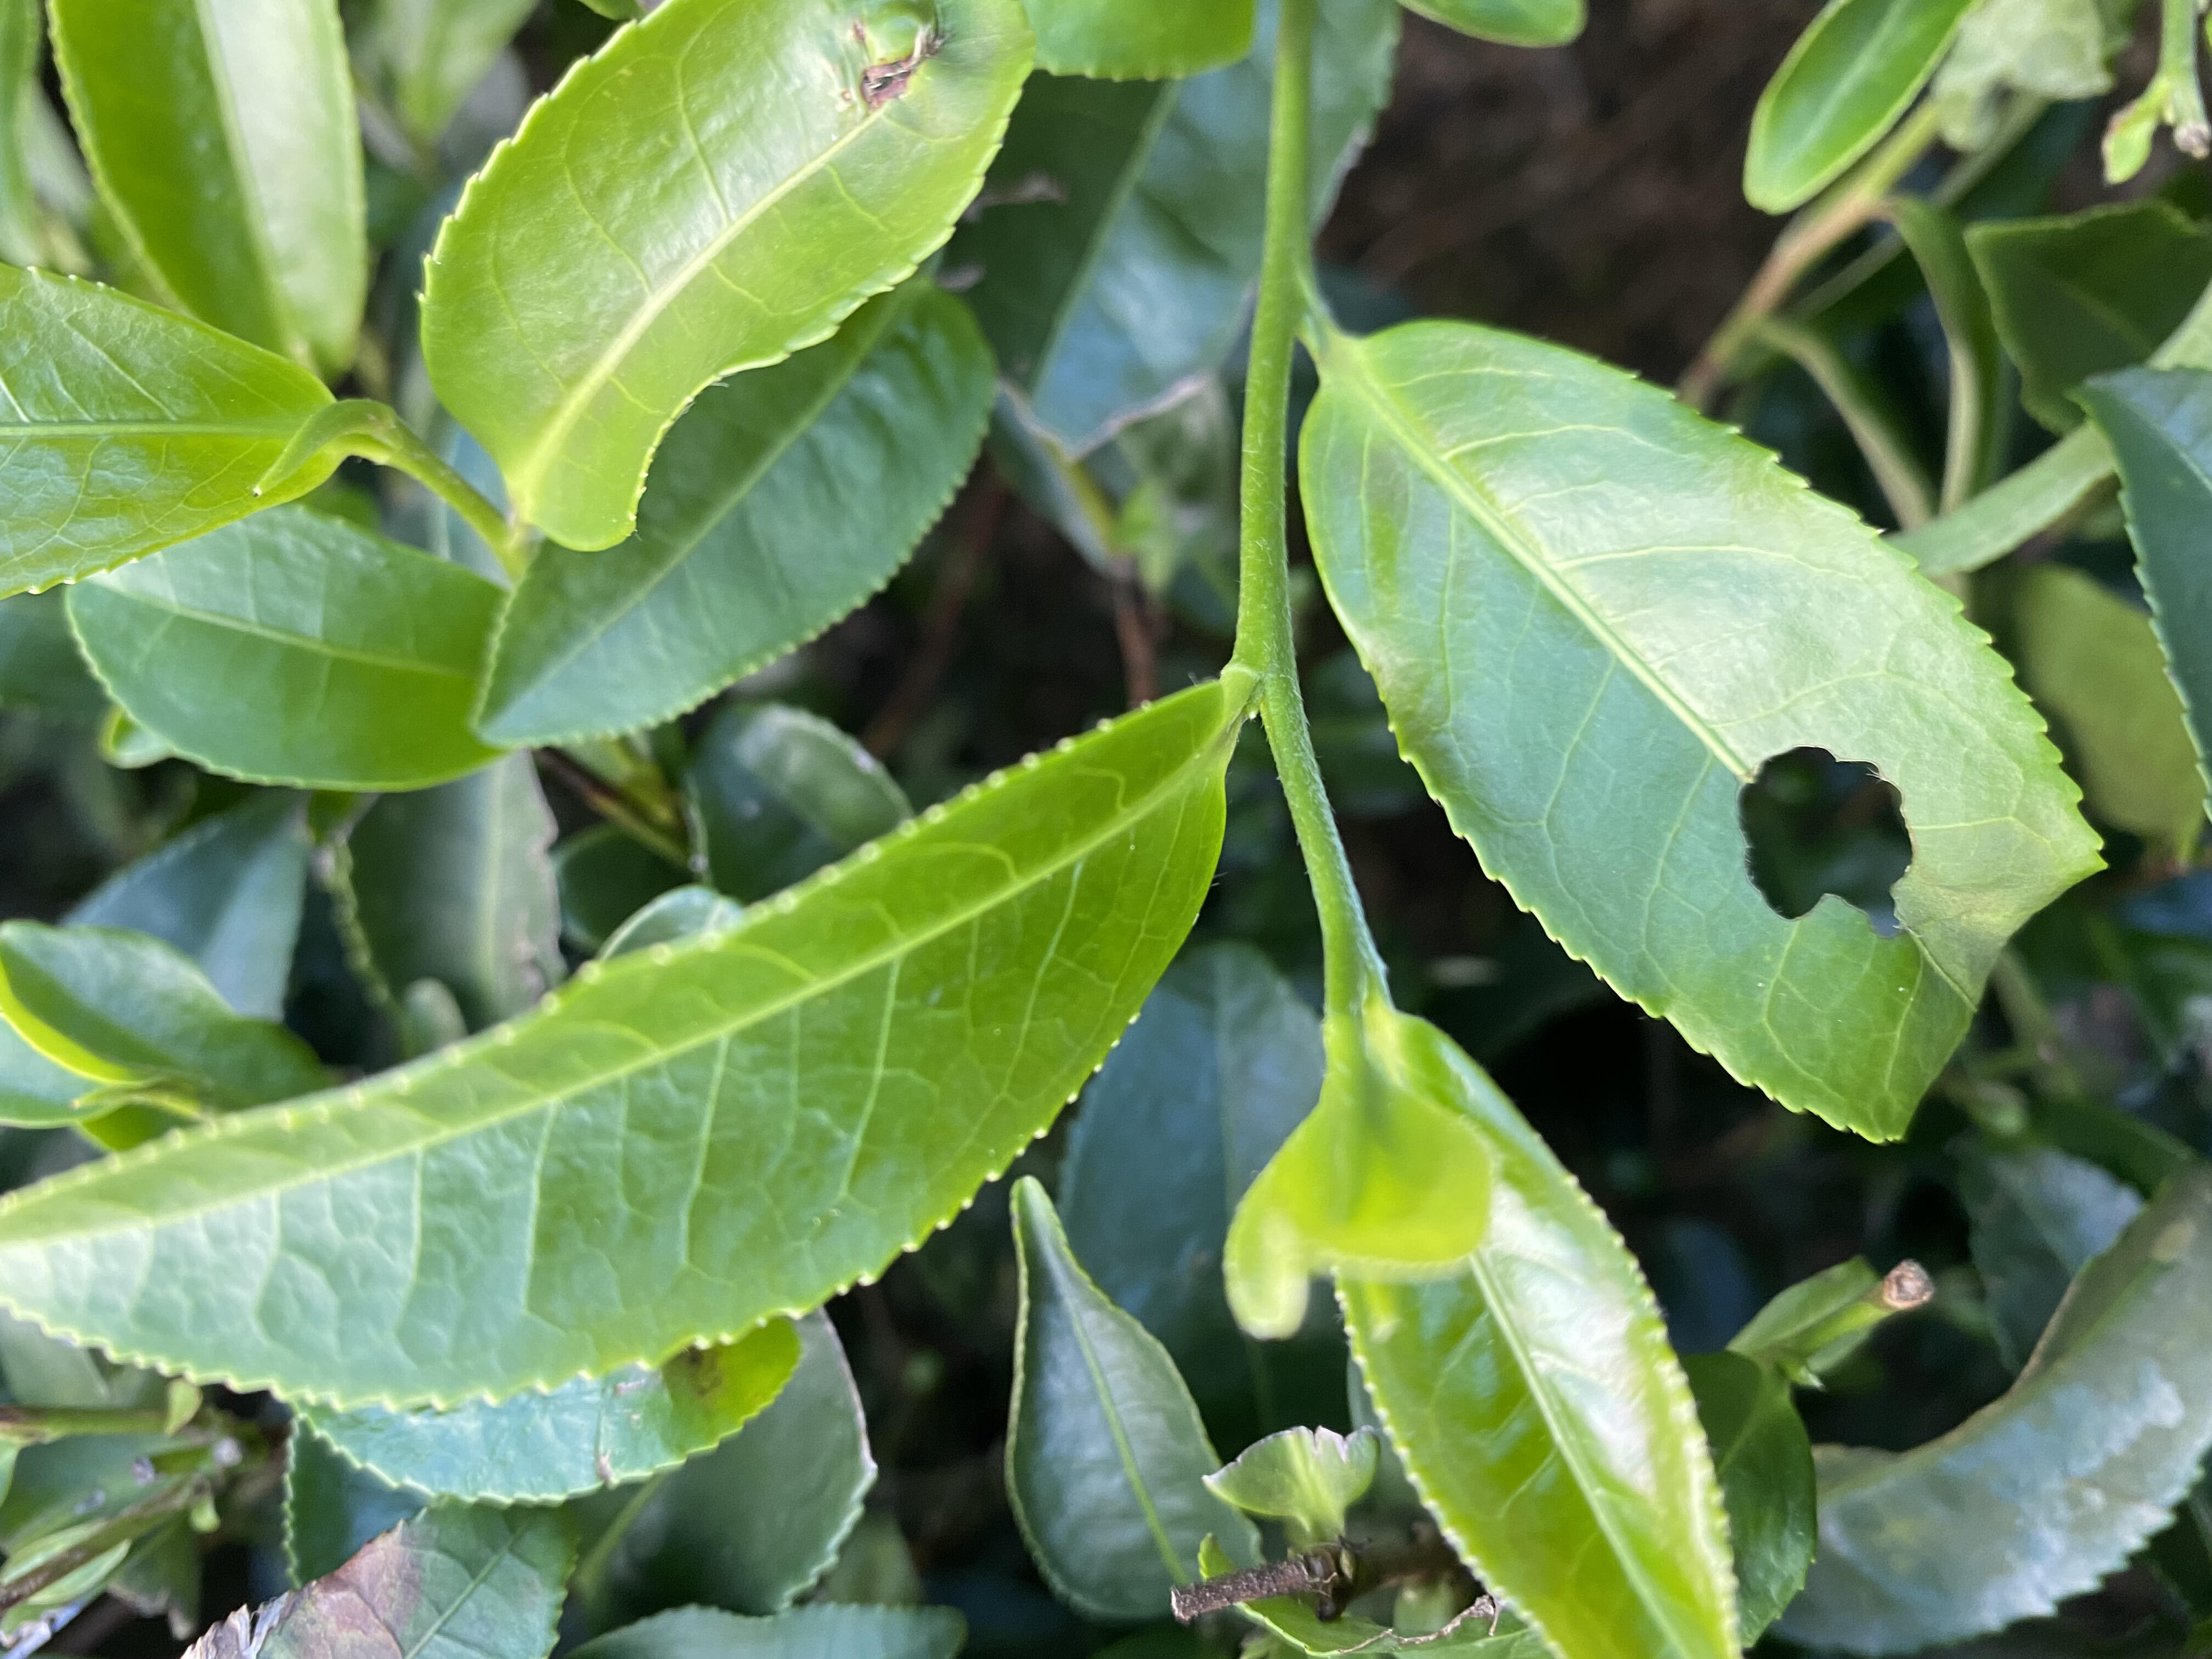chihuo_high: (1197, 1422, 1383, 1523)
chihuo_low: (1294, 317, 2113, 1150)
healthy: (2, 674, 1242, 1419)
tanju_high: (413, 3, 1031, 556), (174, 1506, 601, 1656)
